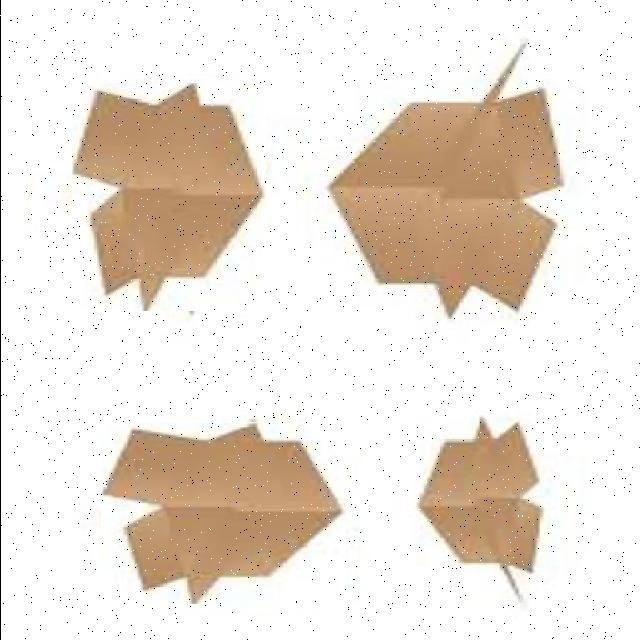defect: (327, 35, 576, 317), (100, 422, 345, 604), (70, 83, 264, 311), (416, 412, 558, 606)
